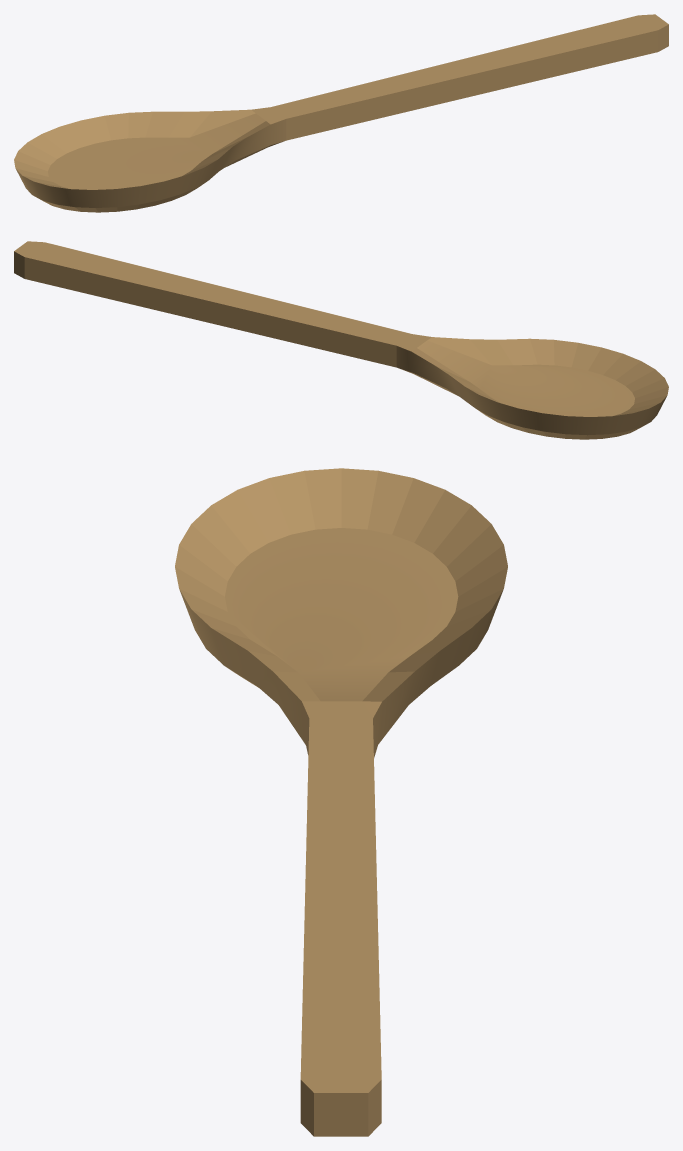
Rendered from CookingSpoon.FBX.
3 views of the same model, one above another, from view 1: azimuth 30°, elevation 25°; view 2: azimuth 150°, elevation 25°; view 3: azimuth 270°, elevation 25° (orthographic). The views are drawn at different scales.
Visible parts, largest first — view 1: ServingSpoom; view 2: ServingSpoom; view 3: ServingSpoom.
Boxes of the visible parts, x1,y1,x2,y2 form: ServingSpoom: (14,14,668,212); ServingSpoom: (14,241,668,439); ServingSpoom: (175,468,507,1136).
Bounding box in the file's own units: 43.23 × 1.99 × 9.75.
